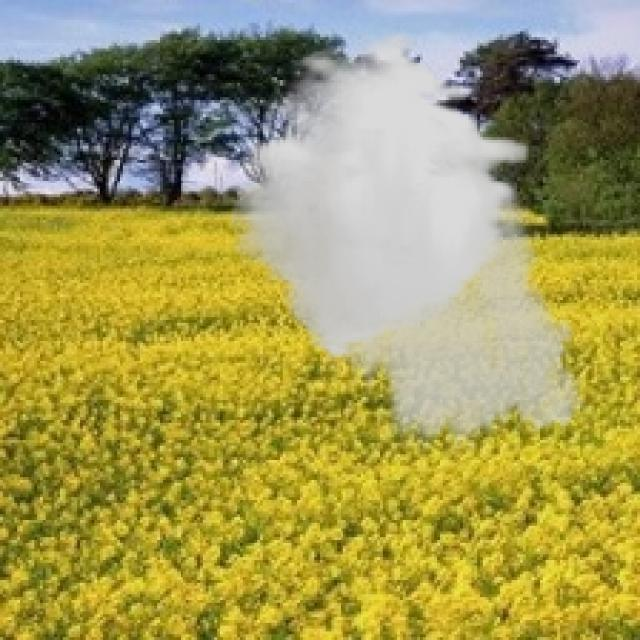smoke: (232, 32, 597, 457)
